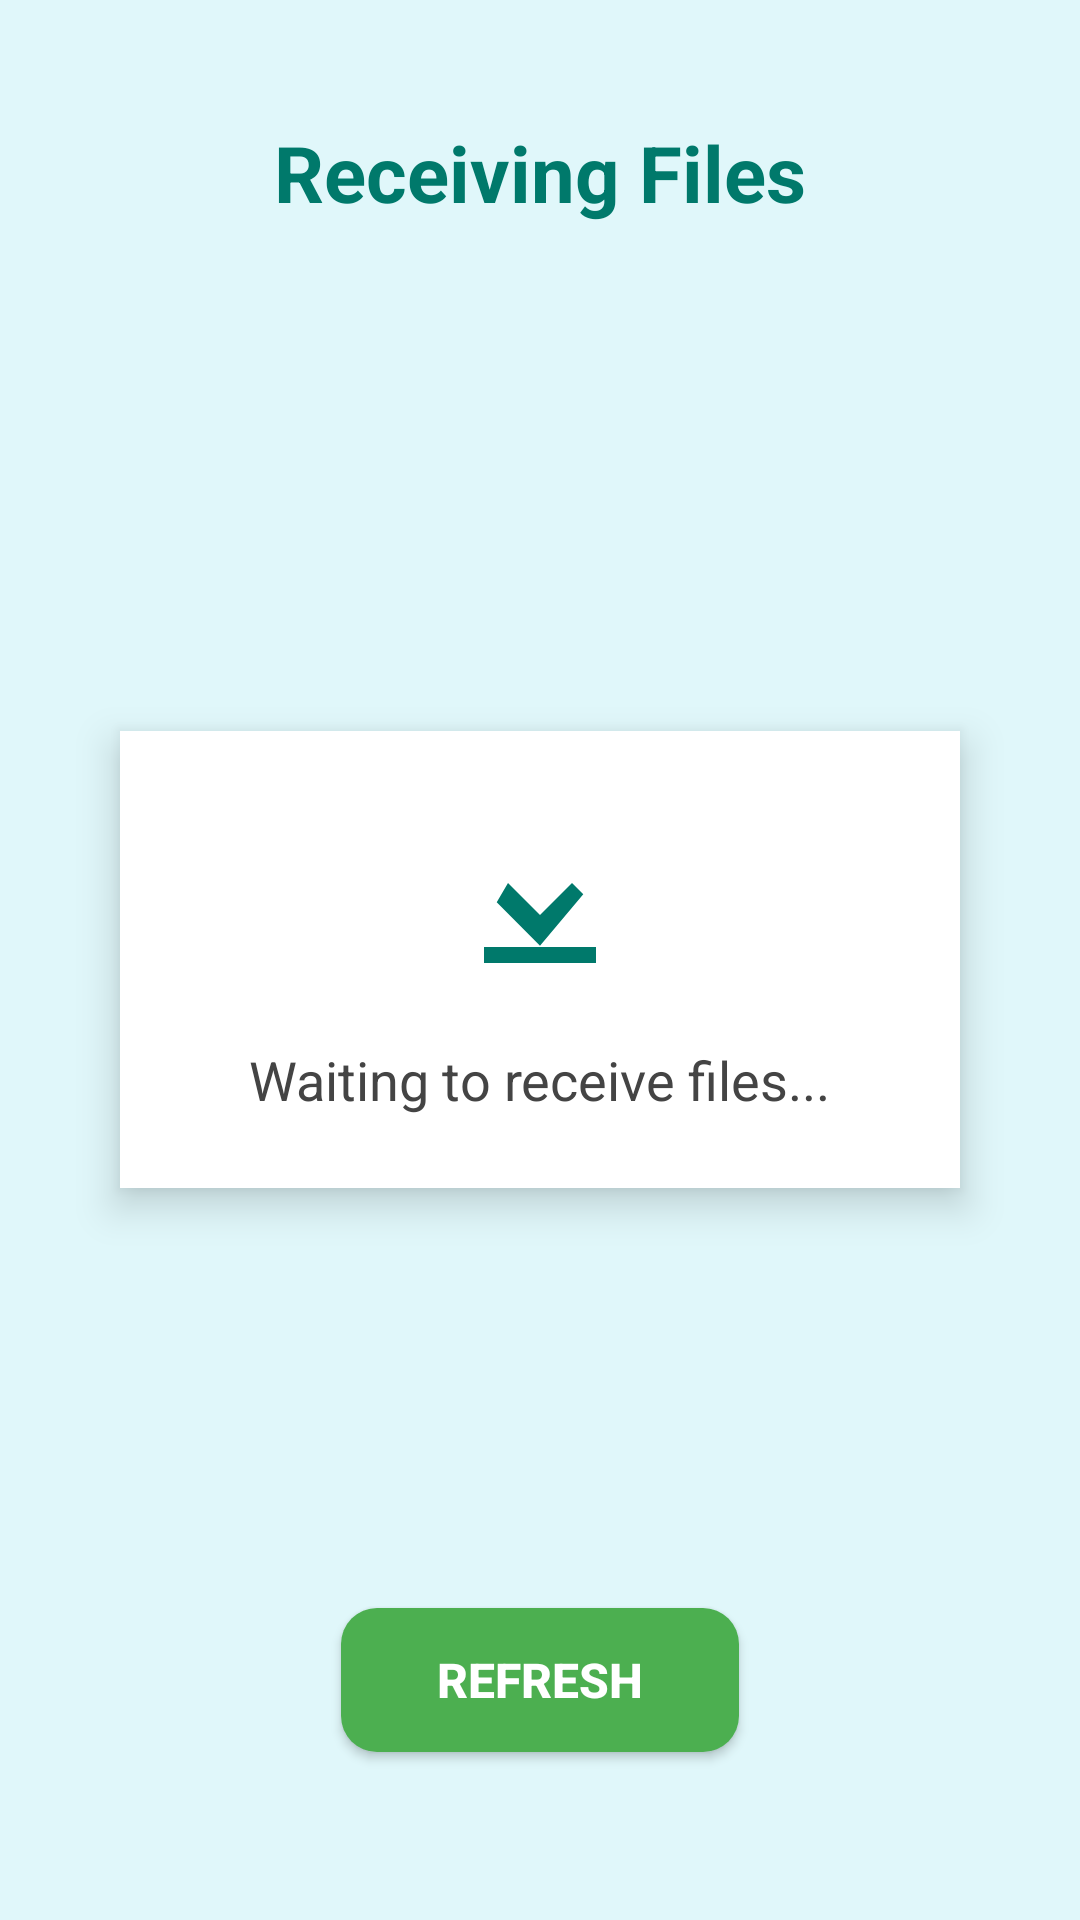

Screen size 1080w x 1920h. Icon name, then its box in pixels as [x1=x1, y1=y1, x2=x2, y2=y2]:
download: [x1=484, y1=883, x2=596, y2=963]
